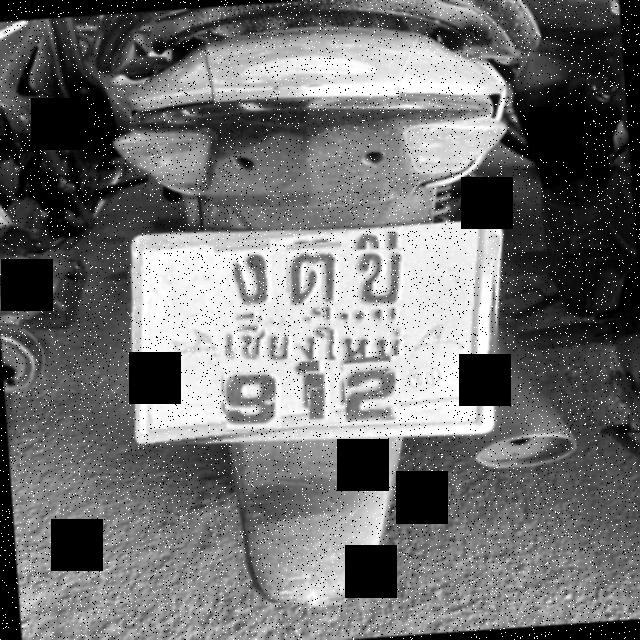letters: (212, 237, 274, 314), (222, 360, 284, 433), (286, 240, 345, 310), (342, 359, 405, 424), (353, 246, 407, 310), (306, 369, 336, 419)
license-plate: (134, 219, 492, 440)
province: (210, 305, 416, 368)
